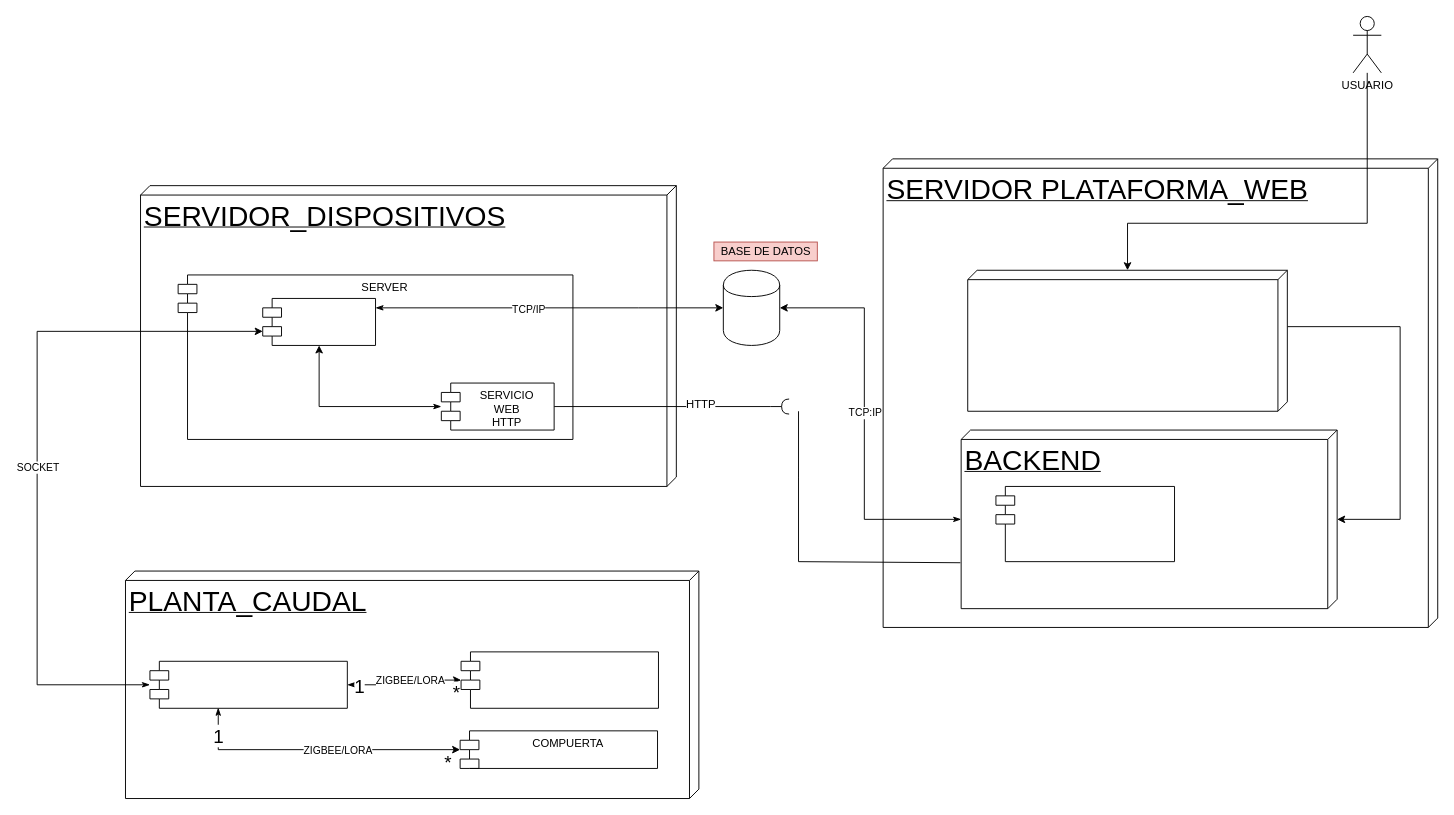
The diagram is 1454 pixels wide and 815 high, and some of its shapes have lost their labels. Each missing label, with the centre of its shape:
"CONCENTRADOR" belongs at (x=248, y=684).
"ESTACION_TELEMETRIA" belongs at (x=559, y=679).
"FRONT" belongs at (x=1127, y=340).
"RAILS_SERVER" belongs at (x=1085, y=524).
"SERVER SOCKET" belongs at (x=319, y=321).
